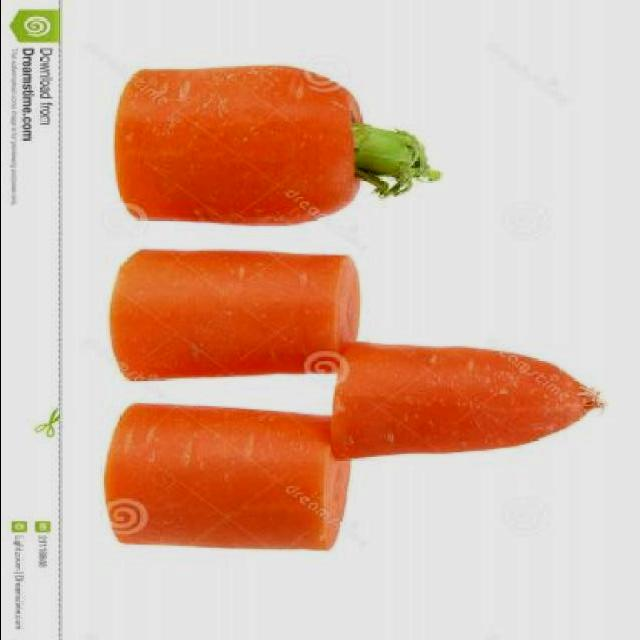carrot: (109, 60, 446, 238), (102, 401, 353, 550), (327, 342, 609, 465), (112, 252, 358, 389)
